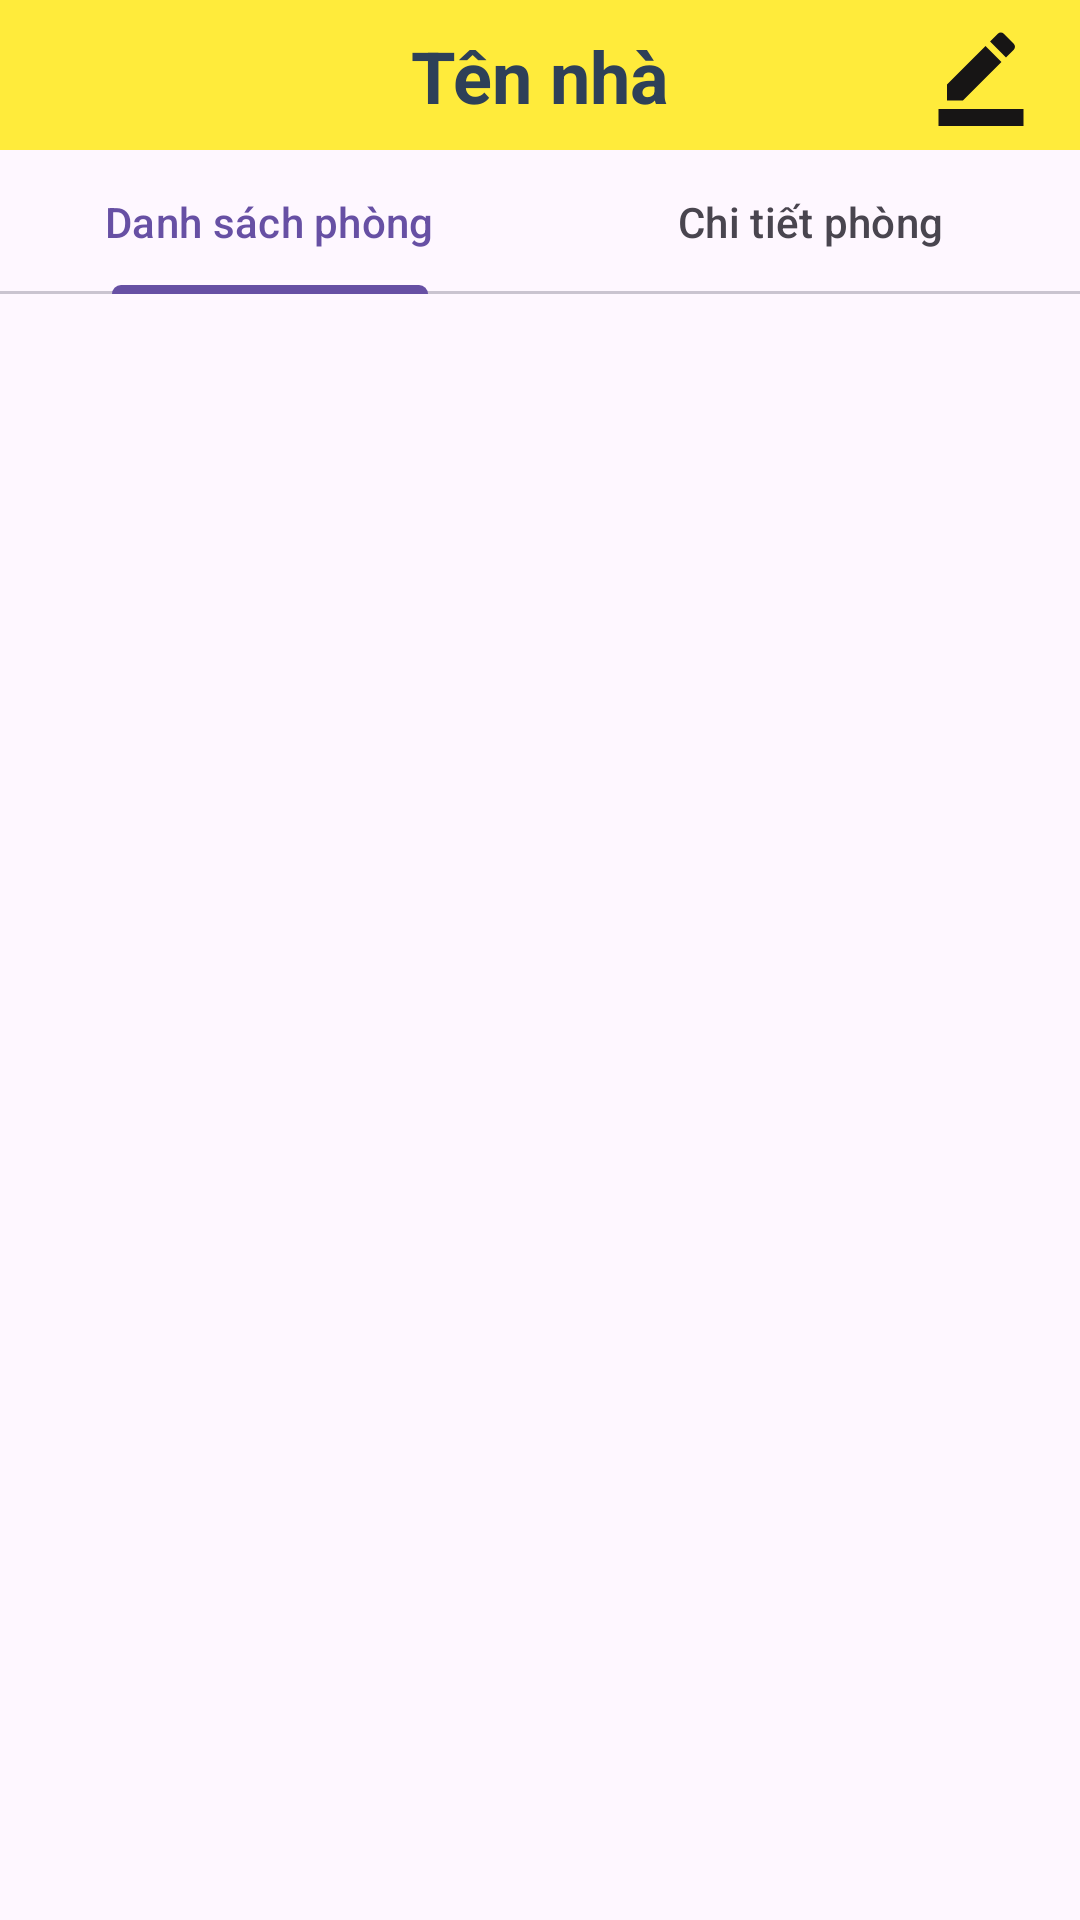

Point at icon controls on the screen. Image size 1080×1920, points as (x,y).
border: (981,79)
